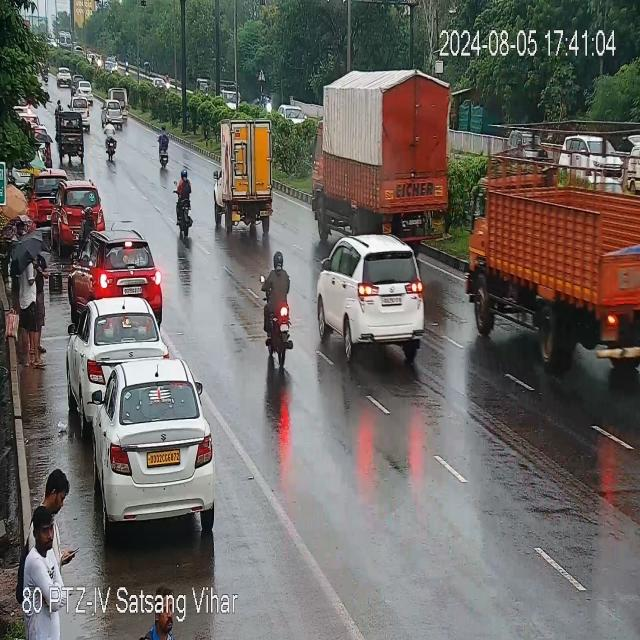2-wheelers: (256, 255, 296, 368), (174, 170, 197, 238), (152, 126, 178, 168), (102, 124, 124, 160)
auto: (56, 109, 88, 159)
car: (78, 356, 220, 530), (315, 234, 432, 368), (70, 298, 164, 398), (78, 236, 164, 304), (54, 184, 106, 240), (29, 163, 70, 223), (100, 99, 130, 125), (56, 66, 77, 88), (78, 77, 95, 103)
pedestrian: (22, 518, 61, 640), (19, 281, 46, 364), (7, 216, 29, 300), (40, 466, 70, 511)
truck: (470, 143, 640, 363), (317, 66, 465, 243), (210, 115, 280, 232), (60, 30, 73, 53)
